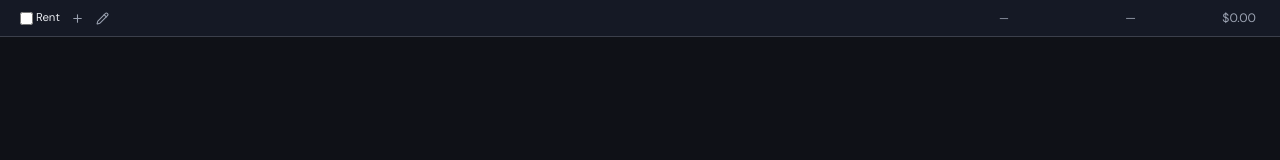
Scenario: CategoryRow rename › offers the pencil and double-click on an ordinary envelope
Expected: the button named "Rename Rent" is shown, x1=91 y1=6 x2=115 y2=30
Step 1. Double-click the text "Rent" → coordinates (48, 18), box x1=36 y1=10 x2=60 y2=27
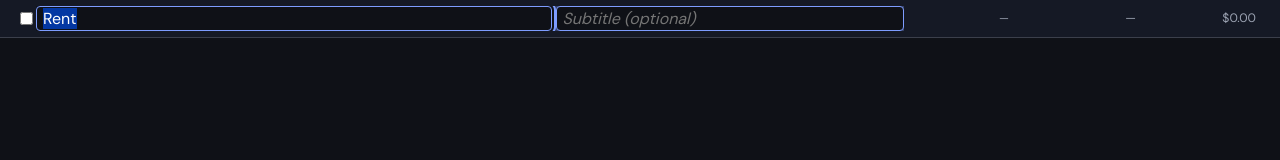
Result: the field showing "Rent" is shown at x1=36 y1=6 x2=552 y2=31
